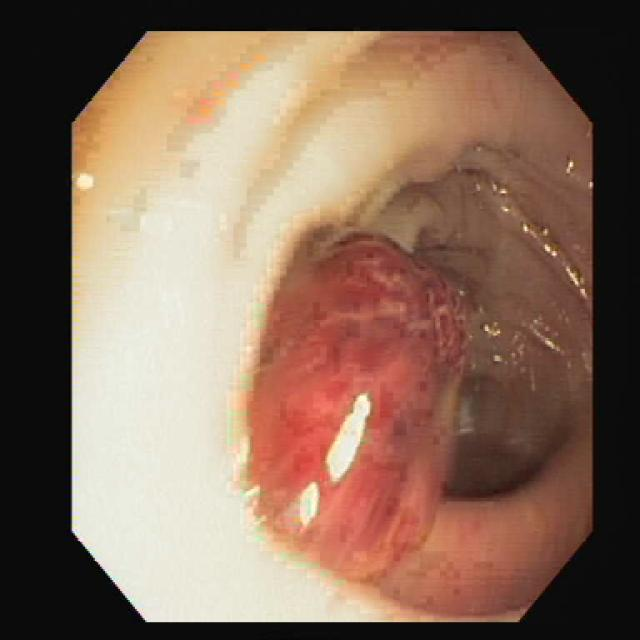tumor: (253, 233, 465, 556)
